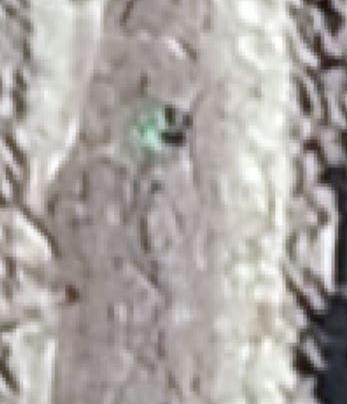cotton: (138, 125, 163, 146), (150, 112, 164, 128)
